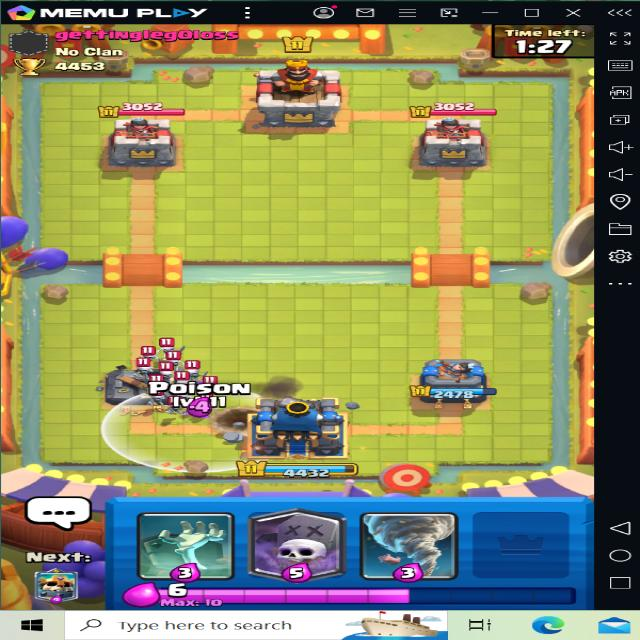skeleton: (200, 372, 232, 402), (156, 334, 183, 358), (134, 355, 154, 378), (136, 342, 159, 362), (182, 358, 203, 378), (160, 366, 181, 378)
